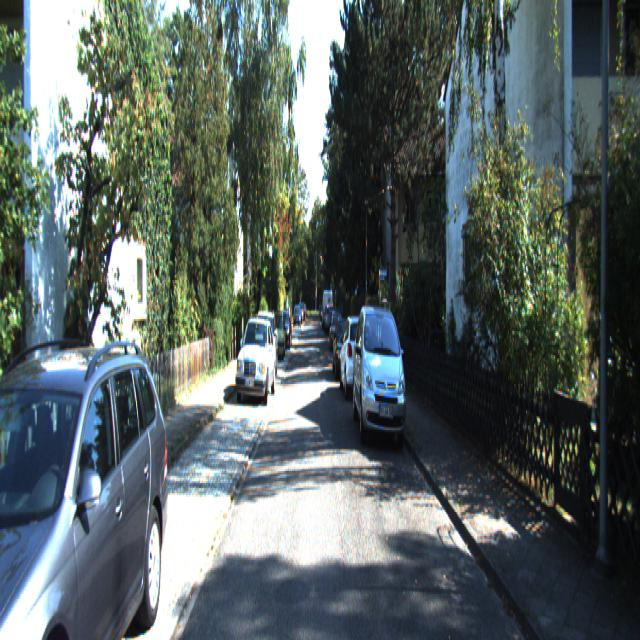Car: (0, 334, 175, 638), (352, 300, 410, 449), (235, 312, 275, 404), (338, 311, 374, 402), (268, 310, 286, 362)
